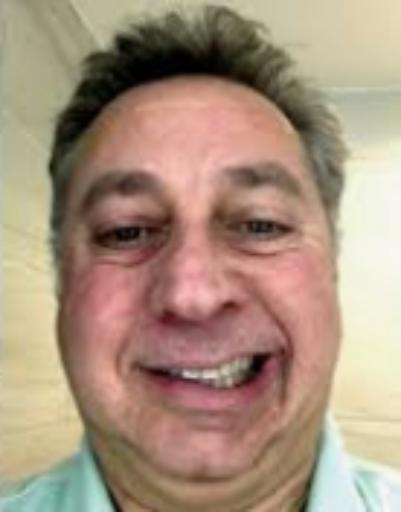left_eye: (231, 215, 294, 240)
left_lip_corner: (274, 346, 292, 362)
right_eye: (94, 223, 163, 248)
right_lip_corner: (129, 359, 152, 380)
